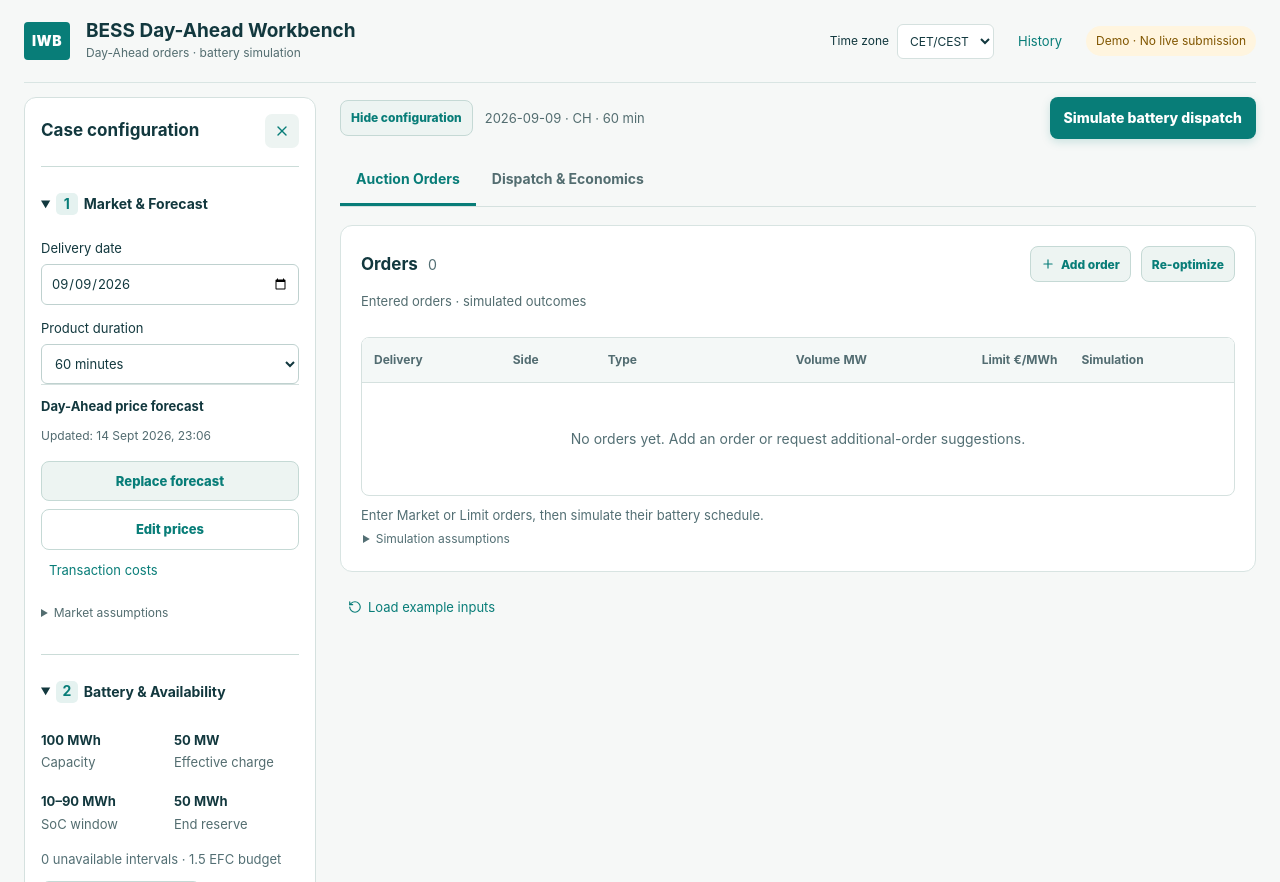
Test: OrderSimulatorWorkbench › starts with no orders and exposes only the manual simulation journey
Expected: the button "Replace forecast" is shown, [41,460,299,501]
Expected: the button "Add order" is enabled, [1030,246,1131,282]
Click the button "Simulate battery dispatch" at (1153, 118), box [1050,97,1256,139]
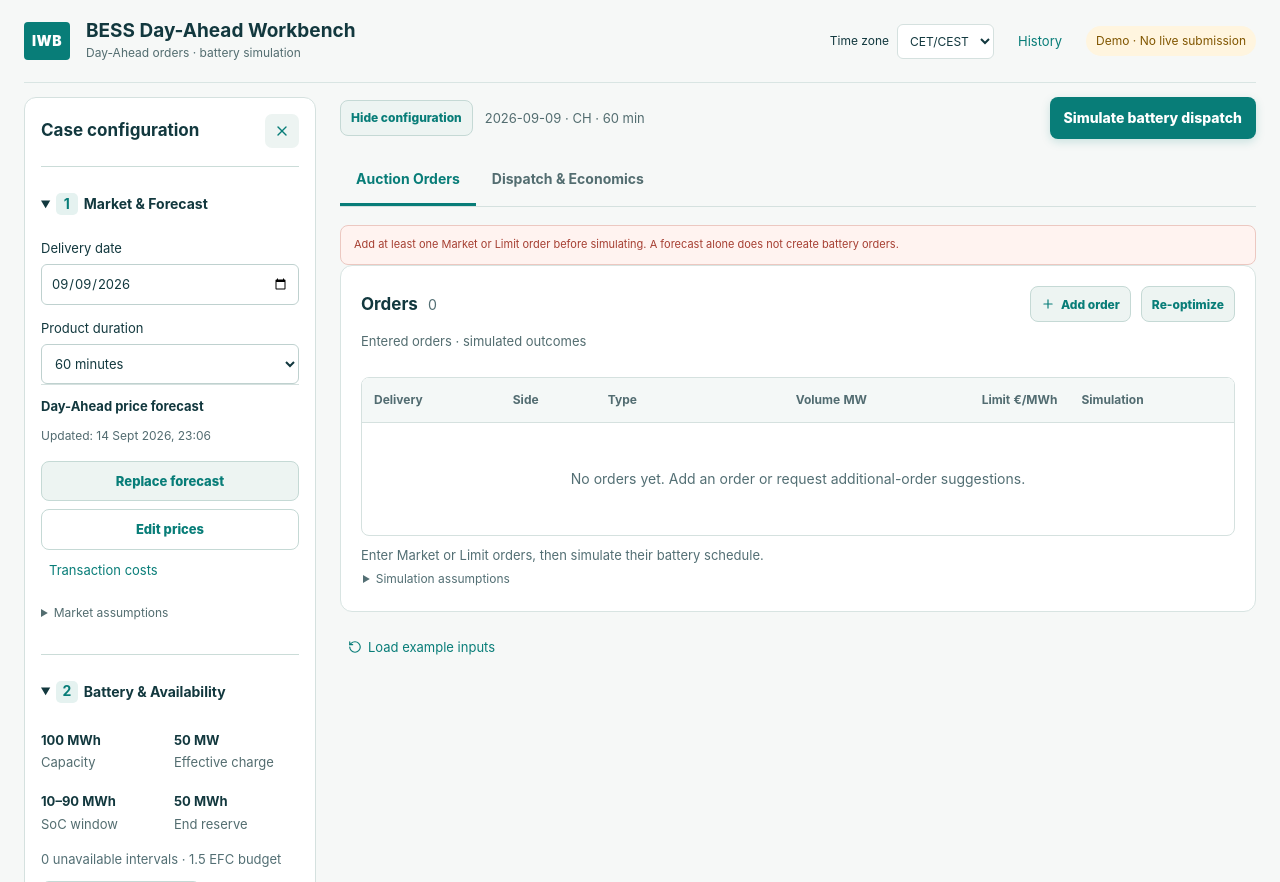
Now the text "Add at least one Market or Limit order" is shown, box [354,237,899,251]
